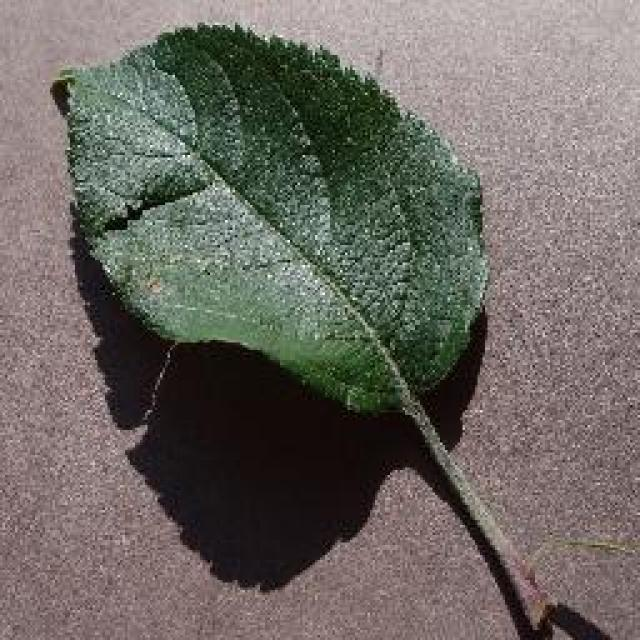apple scab disease: (50, 18, 492, 418)
